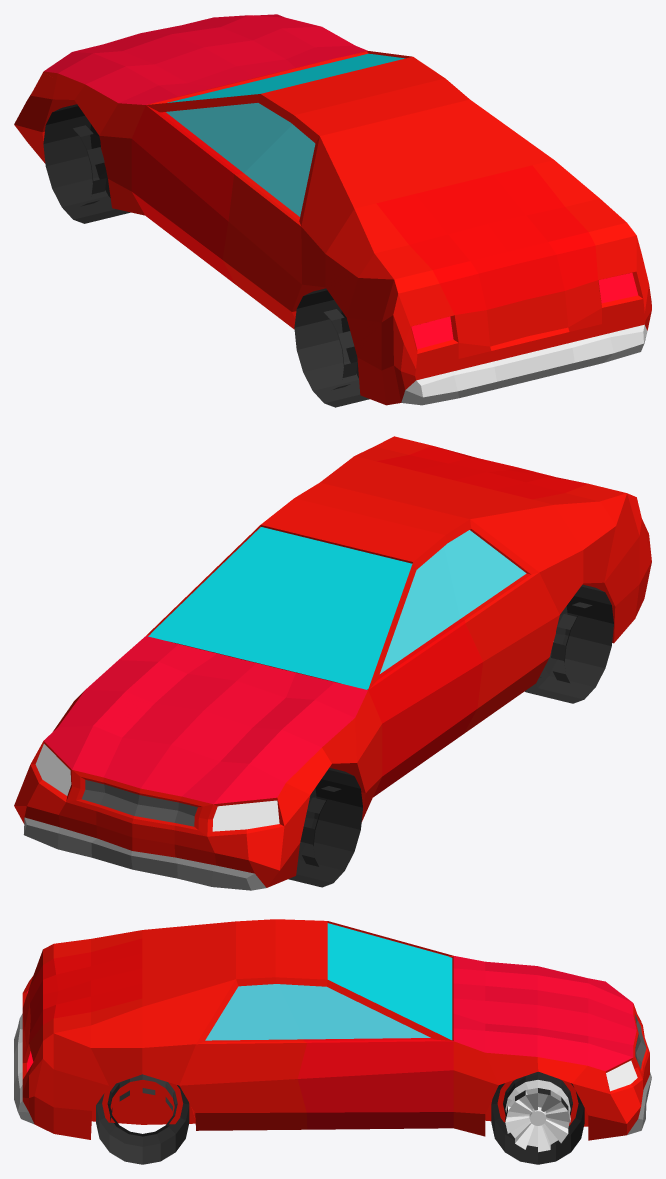
File: Low_poly_car_1.fbx
3 renders of one model, top to bottom at view 1: azimuth 30°, elevation 25°; view 2: azimuth 150°, elevation 25°; view 3: azimuth 270°, elevation 25°, orthographic. The views are drawn at different scales.
Visible parts, largest first — view 1: Car, BagageDoor, Hood, LeftDoor, SideWindowL, BackBumper, WheelTireFL, WheelTireBL., FrontWindow, BackLights; view 2: Car, Hood, FrontWindow, LeftDoor, SideWindowL, WheelTireBL., WheelTireFL, FrontBumper, BagageDoor, HeadLights; view 3: Car, Hood, RightDoor, FrontWindow, SideWindowR, BagageDoor, WheelTireBR, WheelRimFL.002, WheelTireFR, BackBumper, HeadLights, FrontBumper.
Part boxes in pixels (left/top/right/bottom): Car: left=14, top=51, right=651, bottom=405; BagageDoor: left=376, top=165, right=597, bottom=314; Hood: left=44, top=14, right=367, bottom=104; LeftDoor: left=131, top=105, right=243, bottom=284; SideWindowL: left=166, top=103, right=315, bottom=216; BackBumper: left=401, top=324, right=647, bottom=405; WheelTireFL: left=43, top=104, right=130, bottom=223; WheelTireBL.: left=294, top=288, right=369, bottom=407; FrontWindow: left=167, top=53, right=405, bottom=102; BackLights: left=411, top=272, right=637, bottom=349; Car: left=14, top=436, right=651, bottom=887; Hood: left=43, top=636, right=367, bottom=804; FrontWindow: left=148, top=527, right=412, bottom=689; LeftDoor: left=367, top=619, right=482, bottom=797; SideWindowL: left=380, top=530, right=526, bottom=673; WheelTireBL.: left=524, top=584, right=613, bottom=703; WheelTireFL: left=288, top=768, right=362, bottom=887; FrontBumper: left=23, top=817, right=266, bottom=890; BagageDoor: left=377, top=445, right=588, bottom=499; HeadLights: left=35, top=744, right=279, bottom=831; Car: left=22, top=919, right=649, bottom=1140; Hood: left=453, top=956, right=636, bottom=1071; RightDoor: left=298, top=1038, right=453, bottom=1129; FrontWindow: left=327, top=923, right=452, bottom=1039; SideWindowR: left=205, top=984, right=430, bottom=1040; BagageDoor: left=29, top=938, right=142, bottom=1043; WheelTireBR: left=96, top=1074, right=189, bottom=1164; WheelRimFL.002: left=505, top=1080, right=570, bottom=1152; WheelTireFR: left=491, top=1072, right=584, bottom=1164; BackBumper: left=14, top=1013, right=33, bottom=1123; HeadLights: left=606, top=1060, right=637, bottom=1091; FrontBumper: left=627, top=1072, right=651, bottom=1134.
Size of the model in its own units: 401 by 306 by 1054.
